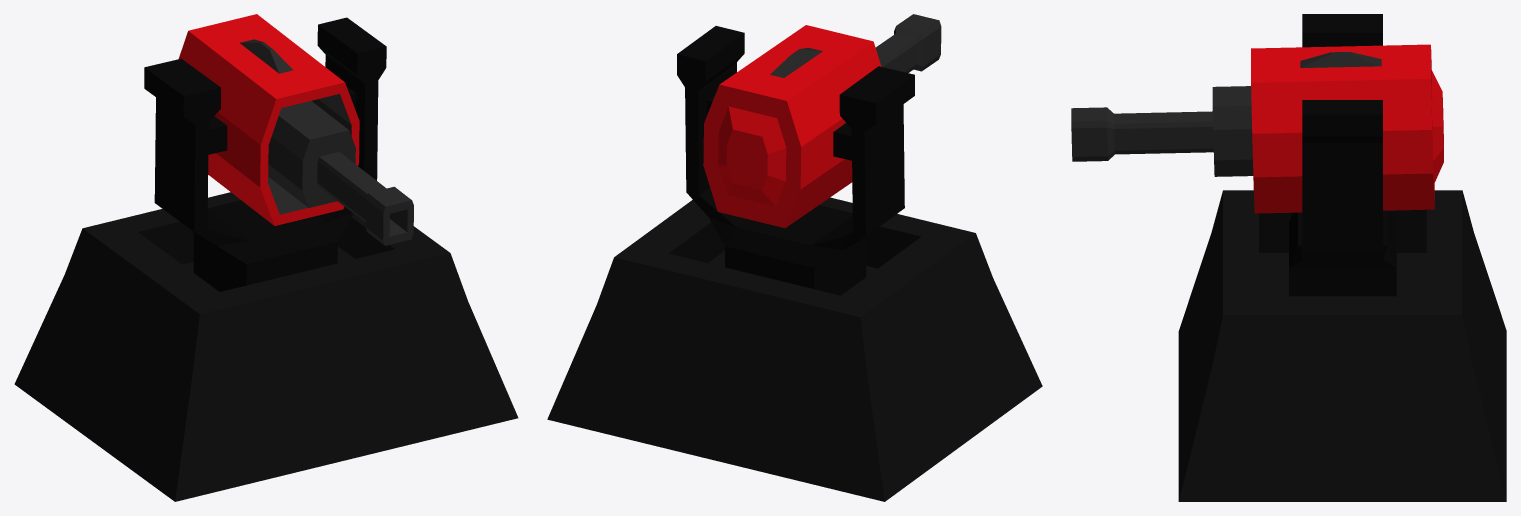
Rendered from rm_spacetech_mx1_turret.fbx.
3 views of the same model, side by side, from view 1: azimuth 30°, elevation 25°; view 2: azimuth 150°, elevation 25°; view 3: azimuth 270°, elevation 25° (orthographic). The views are drawn at different scales.
Visible parts, largest first — view 1: RM_MX1_Turret_Stand, RM_MX1_Turret_Gun, RM_MX1_Turret_Mount; view 2: RM_MX1_Turret_Stand, RM_MX1_Turret_Gun, RM_MX1_Turret_Mount; view 3: RM_MX1_Turret_Stand, RM_MX1_Turret_Gun, RM_MX1_Turret_Mount.
Boxes of the visible parts, left/top/right/bottom form: RM_MX1_Turret_Stand: left=14, top=192, right=518, bottom=501; RM_MX1_Turret_Gun: left=178, top=14, right=413, bottom=245; RM_MX1_Turret_Mount: left=144, top=17, right=386, bottom=291; RM_MX1_Turret_Stand: left=547, top=197, right=1042, bottom=501; RM_MX1_Turret_Gun: left=703, top=14, right=941, bottom=228; RM_MX1_Turret_Mount: left=677, top=26, right=914, bottom=295; RM_MX1_Turret_Stand: left=1178, top=190, right=1506, bottom=501; RM_MX1_Turret_Gun: left=1071, top=44, right=1443, bottom=213; RM_MX1_Turret_Mount: left=1289, top=14, right=1396, bottom=296.
Bounding box in the file's own units: 338 × 335 × 364.
